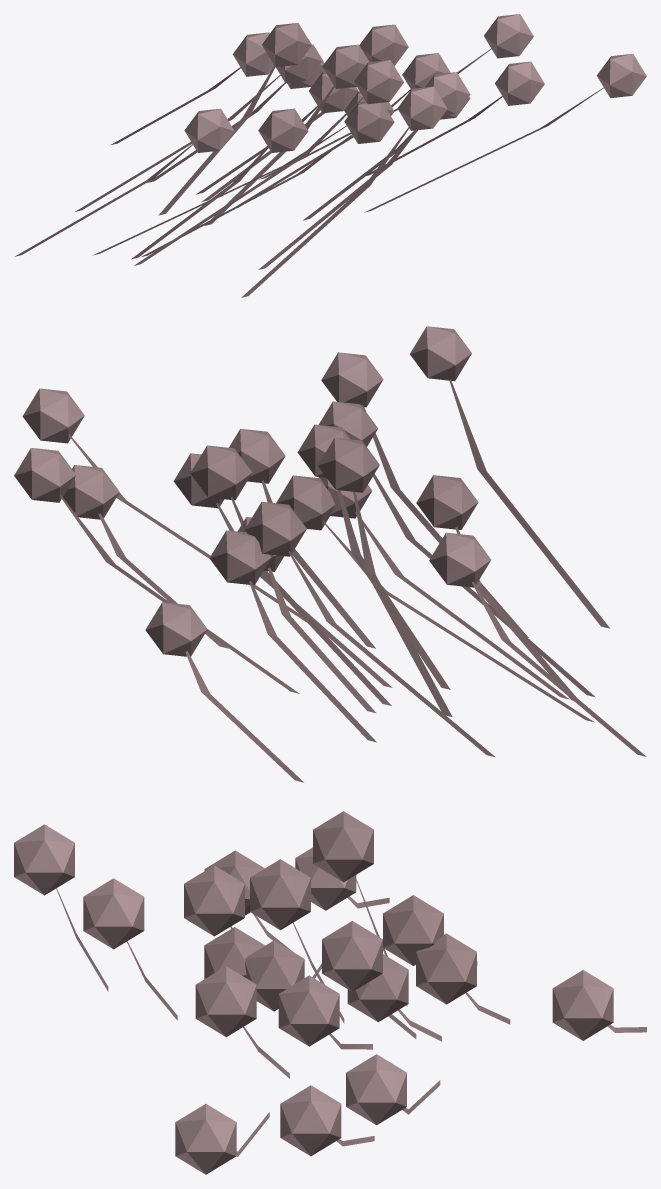
File: iron-thrift.glb
3 renders of one model, top to bottom at view 1: azimuth 30°, elevation 25°; view 2: azimuth 150°, elevation 25°; view 3: azimuth 270°, elevation 25°, orthographic. The views are drawn at different scales.
Parts seen in each view (by area): view 1: Армерия приморская; view 2: Армерия приморская; view 3: Армерия приморская.
Boxes of the visible parts, <box> form: Армерия приморская: <box>15,14,646,297</box>; Армерия приморская: <box>14,326,646,782</box>; Армерия приморская: <box>14,811,646,1174</box>.
Bounding box in the file's own units: 1.16 × 0.367 × 0.7938.
